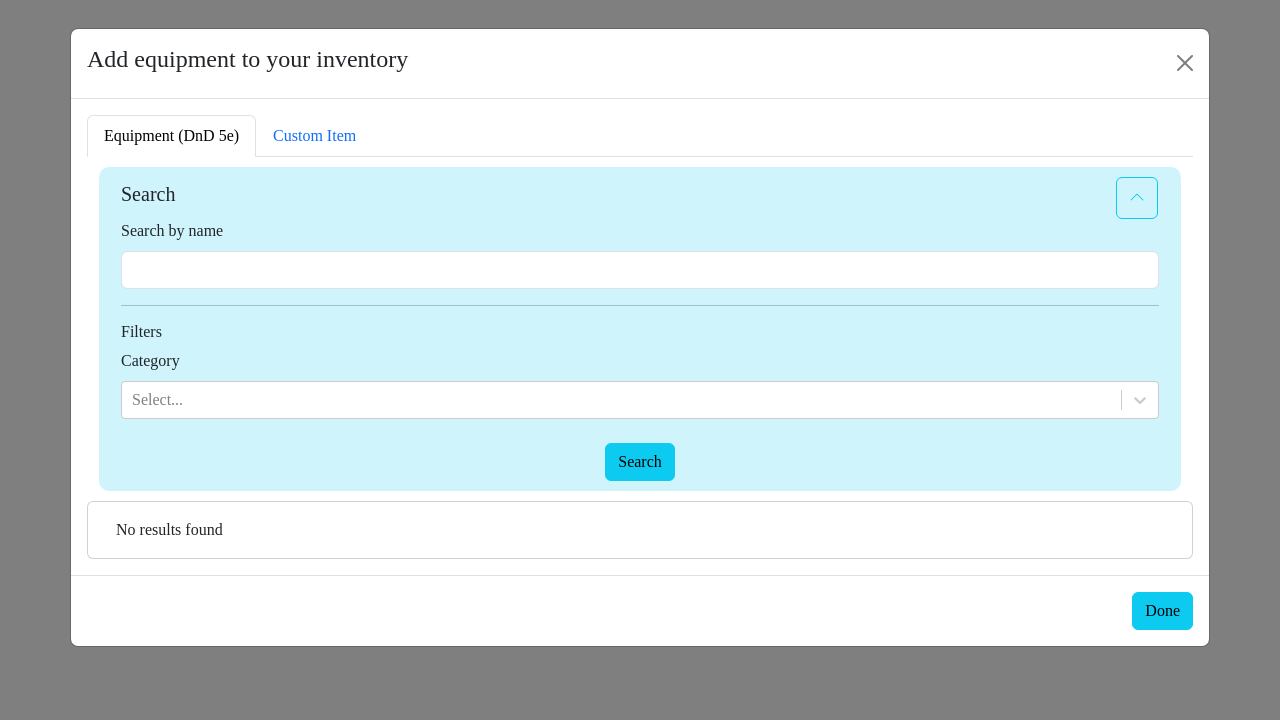
ItemModal › renders custom items tab
Click the button with test id "tab-2".
click(315, 135)  # box [273,127,356,144]
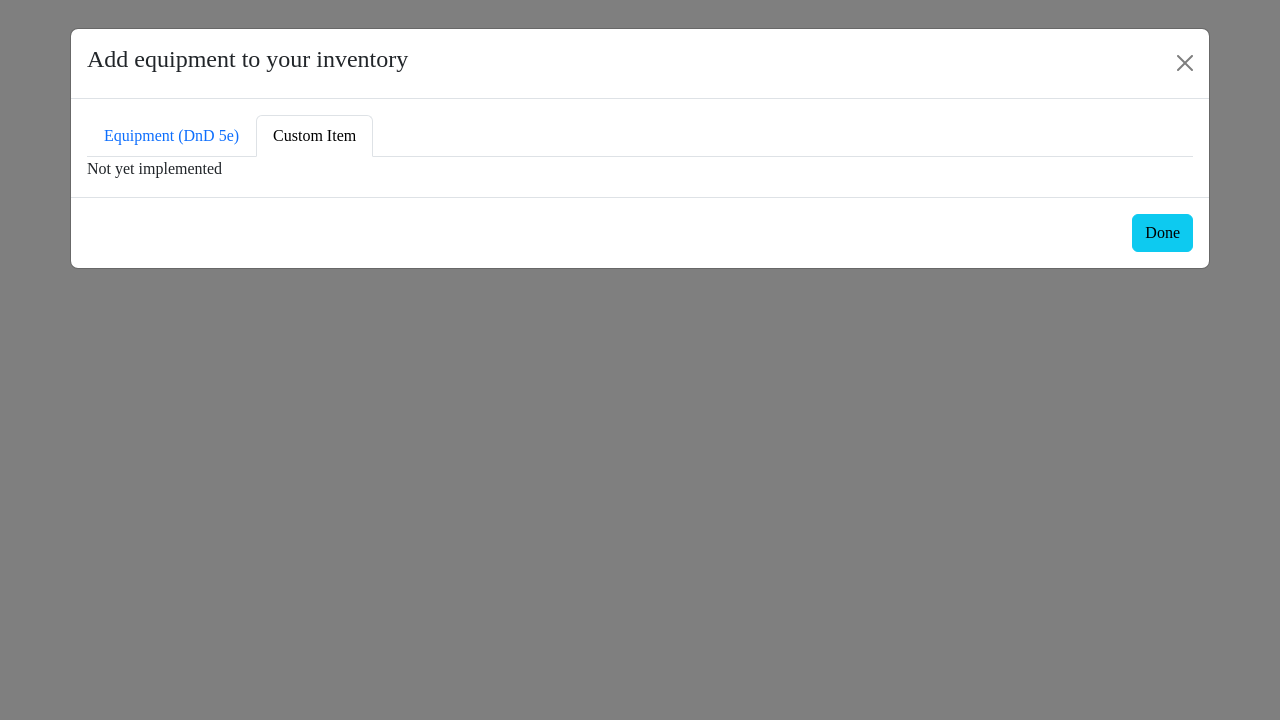
Result: the text "Not yet implemented" is shown at [87,160,222,177]
